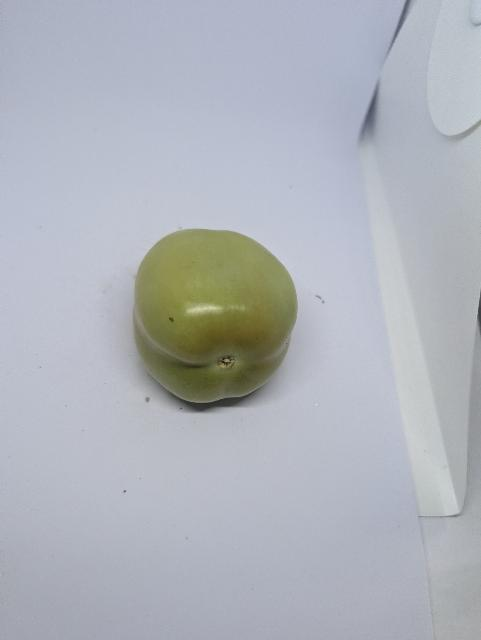green: (130, 226, 301, 408)
